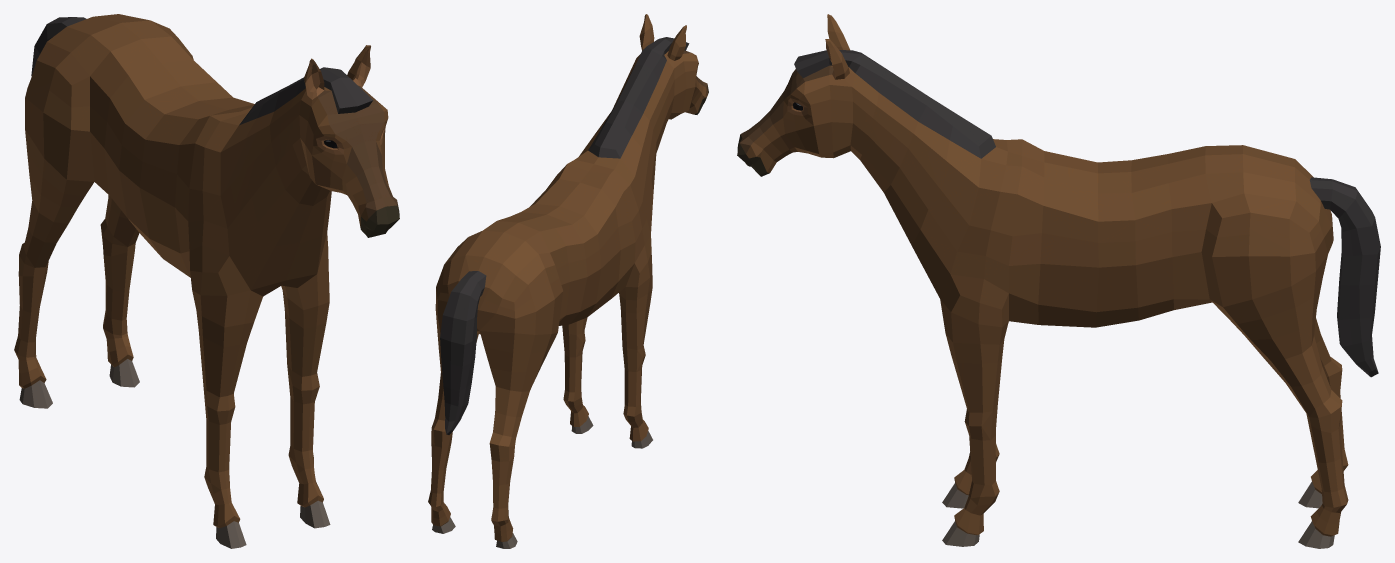
Rendered from Horse.glb.
The picture shows the model from 3 angles, left to right: view 1: azimuth 30°, elevation 25°; view 2: azimuth 150°, elevation 25°; view 3: azimuth 270°, elevation 25°; orthographic projection. The views are drawn at different scales.
Visible parts, largest first — view 1: Horse_Cube; view 2: Horse_Cube; view 3: Horse_Cube.
Part boxes in pixels (bbox=[...]): Horse_Cube: bbox=[14, 14, 399, 548]; Horse_Cube: bbox=[428, 14, 708, 548]; Horse_Cube: bbox=[737, 14, 1380, 548].
Bounding box in the file's own units: 1.41 × 4.83 × 5.69.
1 material, 1 textured.
